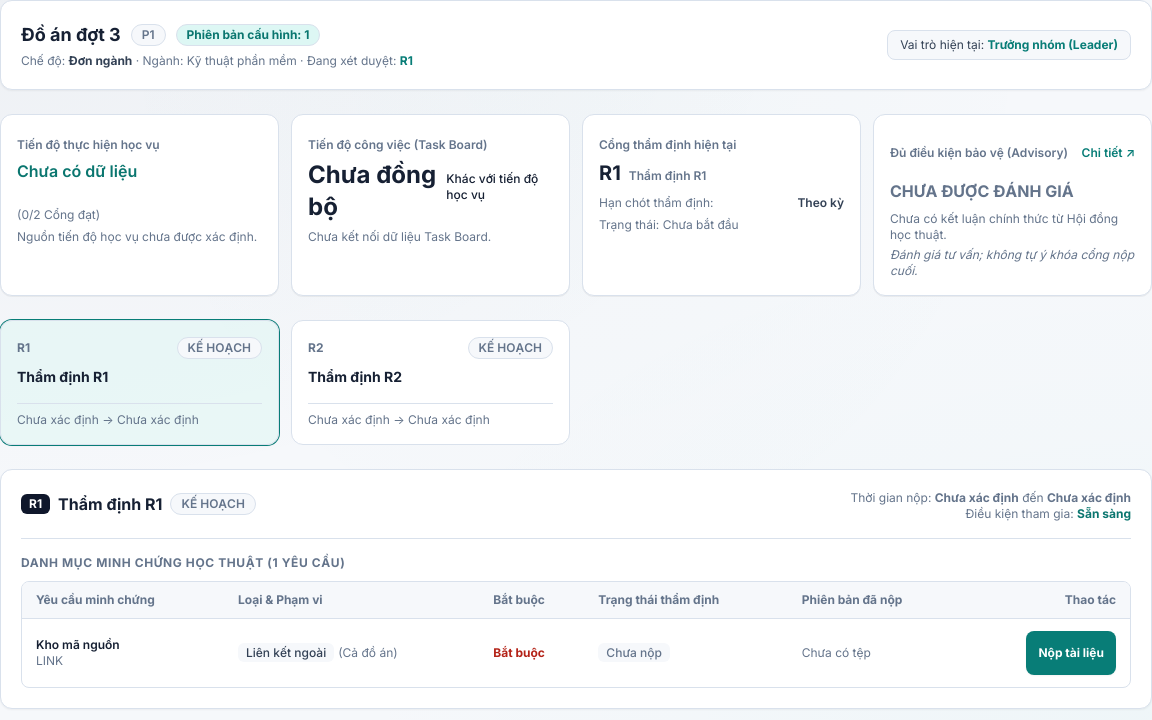
R3-04 external link evidence using the live contract › enables submission for a real EXTERNAL_LINK requirement from server capabilities
Click the button "Nộp tài liệu".
click(1071, 653)  # box [1026, 631, 1116, 675]
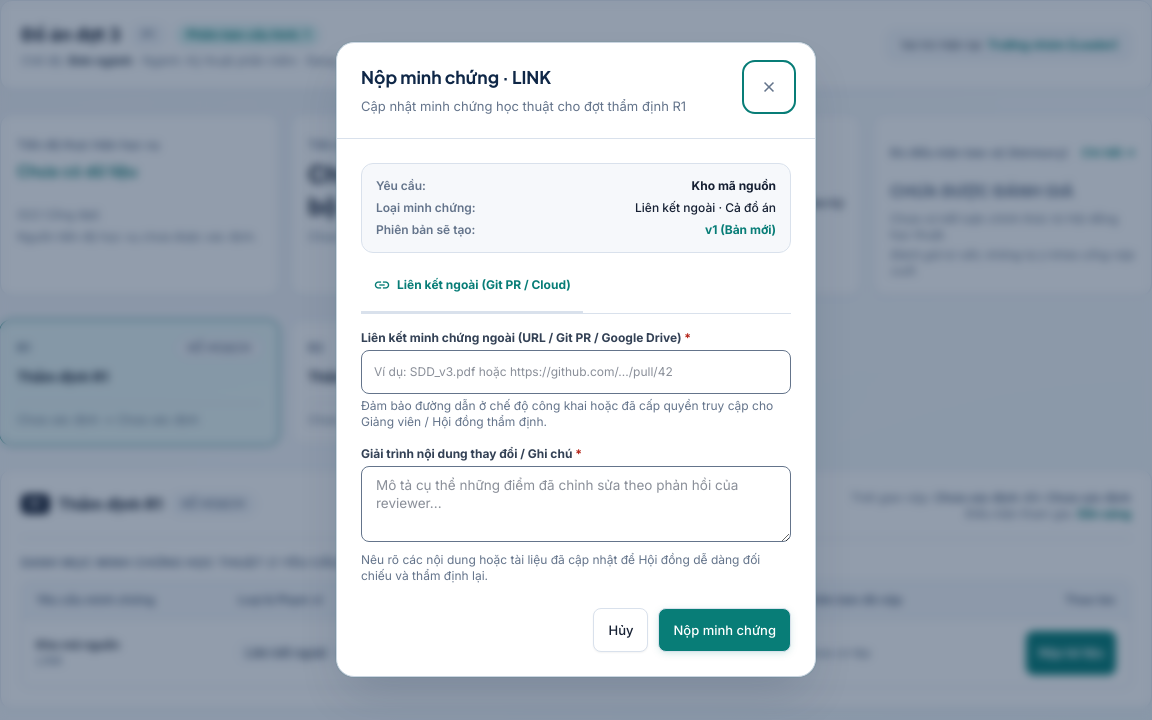
expect the dialog is shown: met, box [336, 42, 816, 678]
expect the button "Liên kết ngoài (Git PR / Cloud)" is shown: met, box [361, 270, 583, 314]
